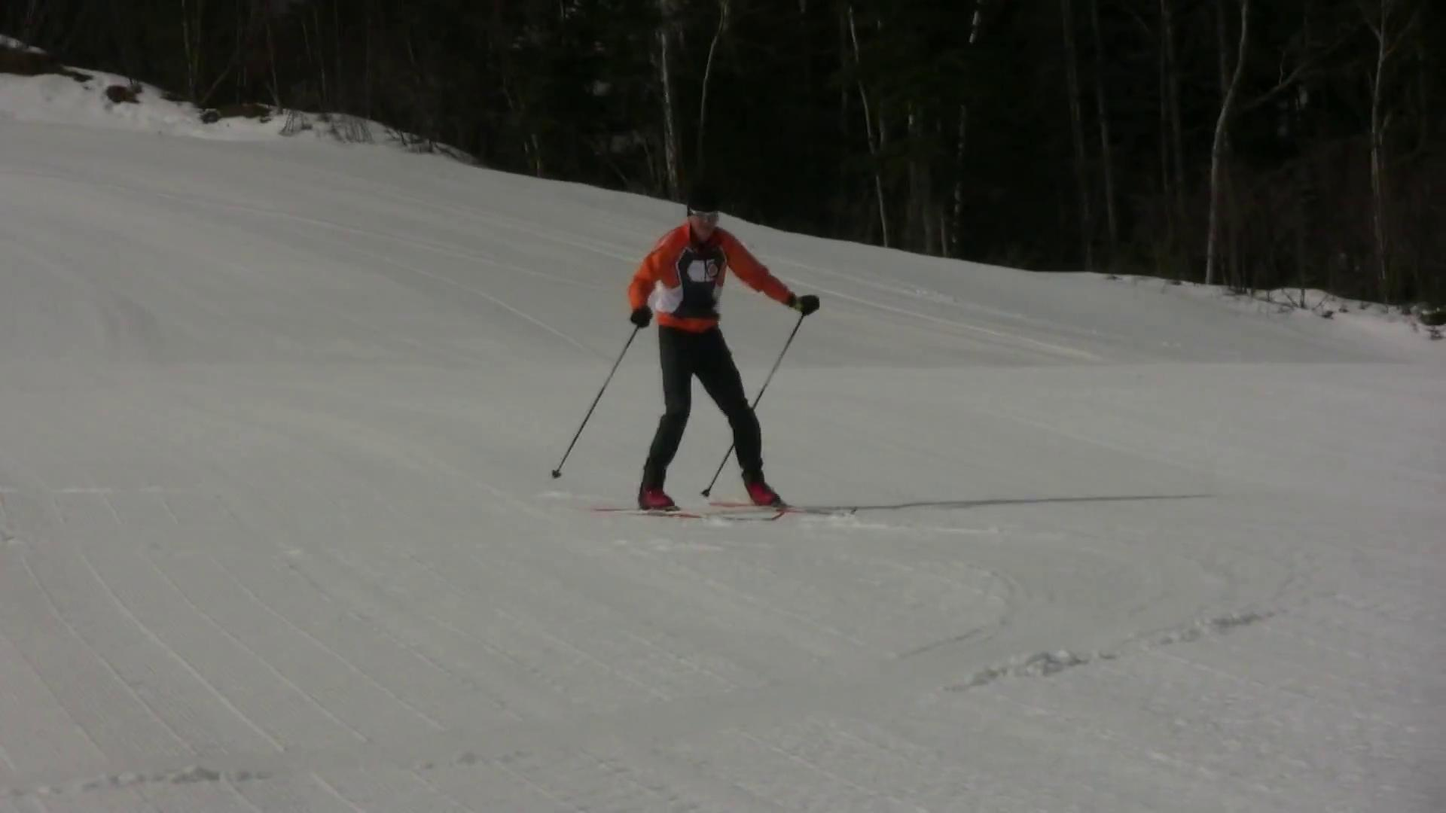victim: (616, 189, 815, 524)
